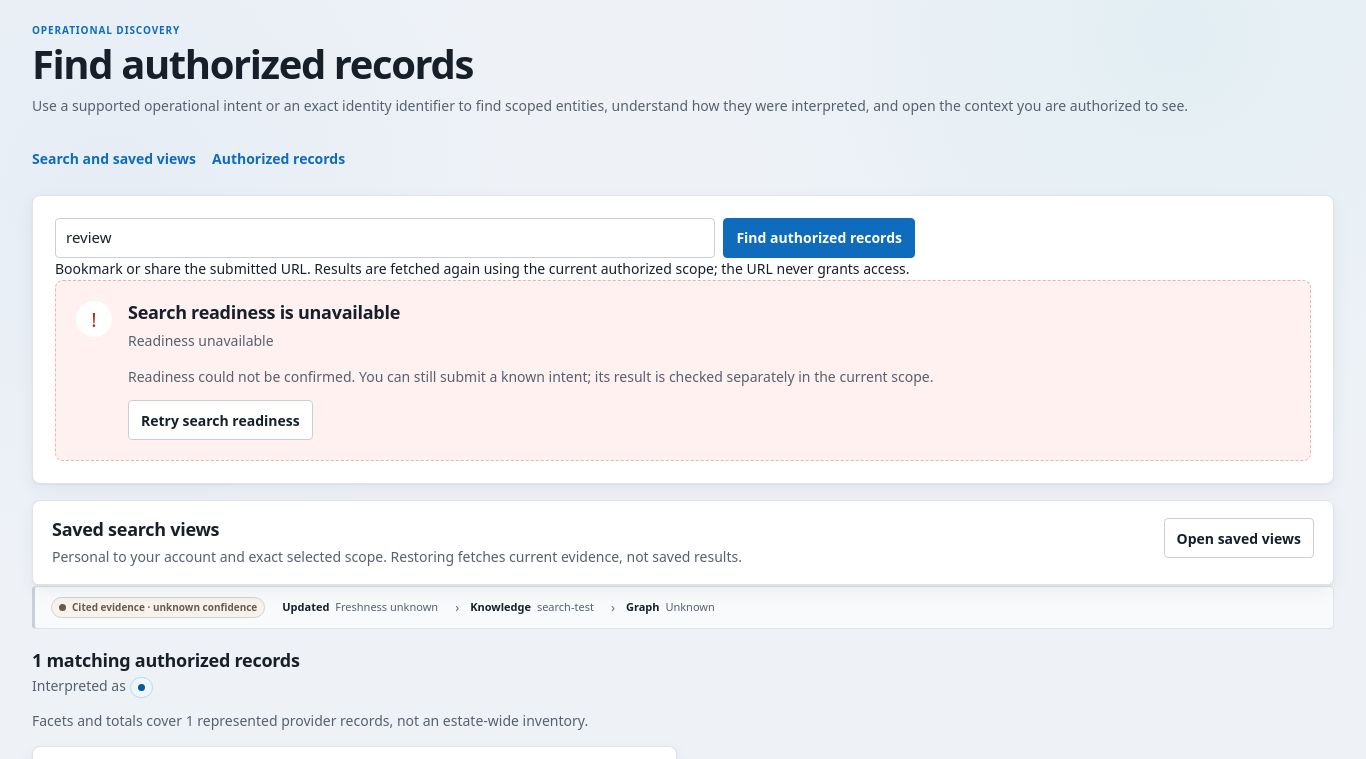
Test: Scoped operational search › recovers readiness independently without rerunning or discarding query results
The width and height of the screenshot is (1366, 759).
Check: the text "Readiness unavailable" is shown, box [128,331,274,350]
Check: the text "You can still submit a known intent" is shown, box [128,367,934,386]
Step 1. Click the button "Retry search readiness" → (220, 420), box [128,400,313,440]
(page scrolled)
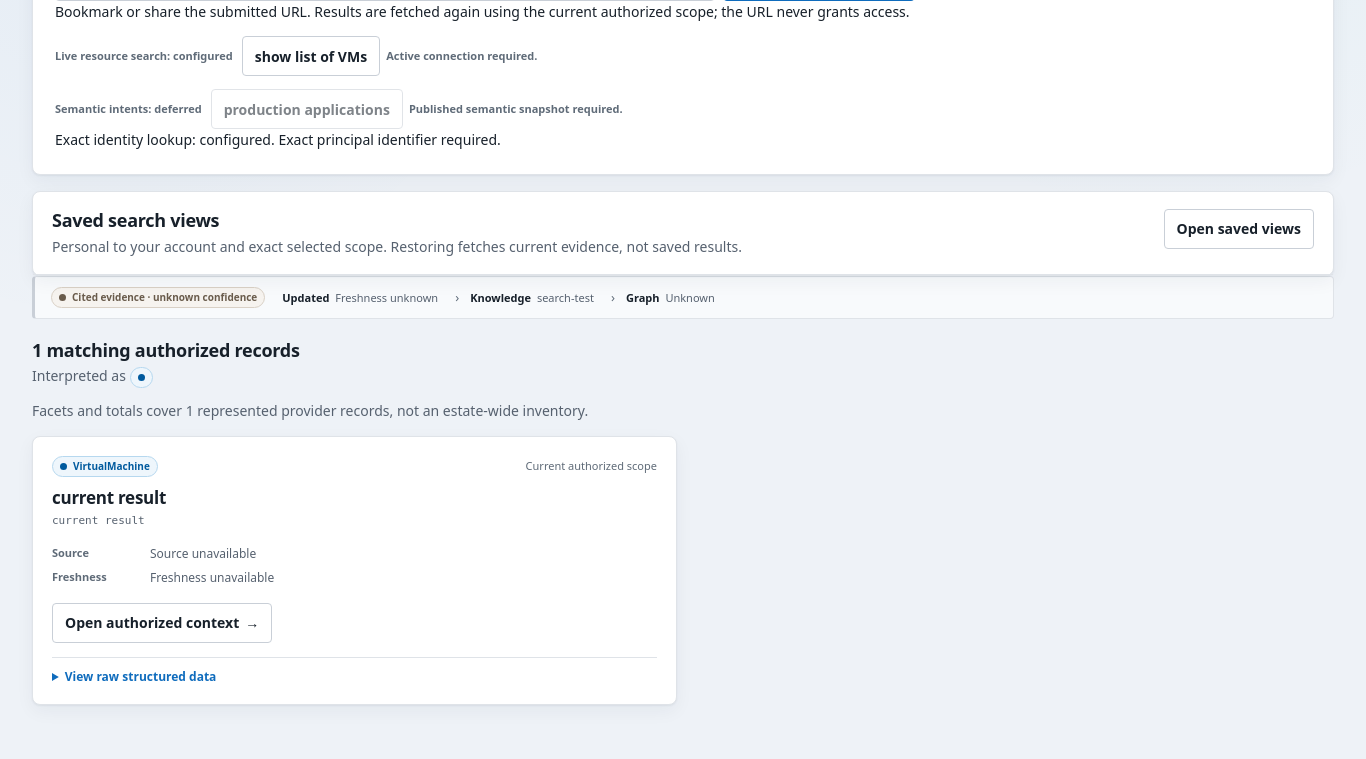
Check: the heading "current result" is shown, box [52,486,166,509]
Check: the button "show list of VMs" is shown, box [242,36,380,76]
